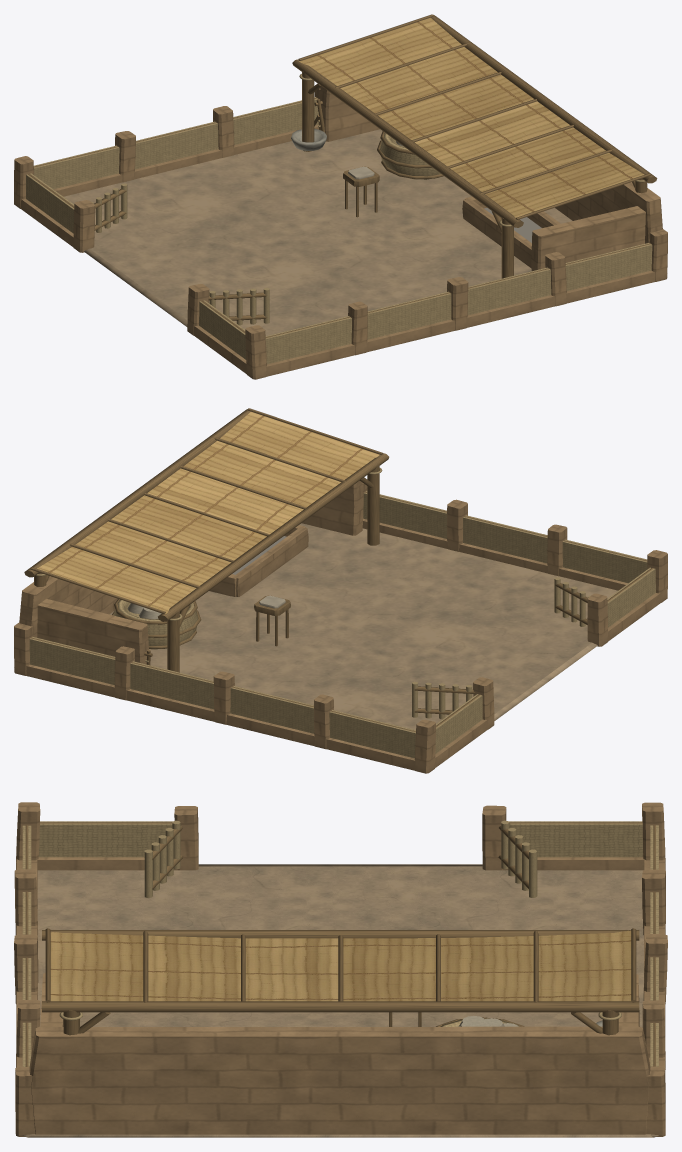
The model's file is sheepfold.glb.
3 renders of one model, top to bottom at view 1: azimuth 30°, elevation 25°; view 2: azimuth 150°, elevation 25°; view 3: azimuth 270°, elevation 25°, orthographic. The views are drawn at different scales.
Parts seen in each view (by area): view 1: original-sheepfold-alluvial-earth, original-sheepfold-laid-reed-thatch, original-sheepfold-game-raw-brick-facing, original-sheepfold-reed-mat, original-sheepfold-worn-timber; view 2: original-sheepfold-alluvial-earth, original-sheepfold-game-raw-brick-facing, original-sheepfold-laid-reed-thatch, original-sheepfold-reed-mat, original-sheepfold-worn-timber, original-sheepfold-woven-linen; view 3: original-sheepfold-game-raw-brick-facing, original-sheepfold-alluvial-earth, original-sheepfold-laid-reed-thatch, original-sheepfold-worn-timber, original-sheepfold-reed-mat.
Part boxes in pixels (bbox=[...]): original-sheepfold-alluvial-earth: bbox=[64, 129, 572, 335]; original-sheepfold-laid-reed-thatch: bbox=[299, 17, 644, 217]; original-sheepfold-game-raw-brick-facing: bbox=[14, 87, 667, 379]; original-sheepfold-reed-mat: bbox=[26, 74, 652, 364]; original-sheepfold-worn-timber: bbox=[28, 14, 657, 337]; original-sheepfold-alluvial-earth: bbox=[109, 523, 617, 730]; original-sheepfold-game-raw-brick-facing: bbox=[14, 480, 667, 773]; original-sheepfold-laid-reed-thatch: bbox=[37, 411, 380, 613]; original-sheepfold-reed-mat: bbox=[29, 468, 655, 758]; original-sheepfold-worn-timber: bbox=[24, 408, 653, 732]; original-sheepfold-woven-linen: bbox=[127, 595, 285, 619]; original-sheepfold-game-raw-brick-facing: bbox=[14, 802, 667, 1136]; original-sheepfold-alluvial-earth: bbox=[22, 864, 658, 1137]; original-sheepfold-laid-reed-thatch: bbox=[48, 930, 631, 1002]; original-sheepfold-worn-timber: bbox=[25, 822, 655, 1066]; original-sheepfold-reed-mat: bbox=[22, 820, 658, 1066].
Size of the model in its own units: 10.72 by 2.4 by 10.75.
Materials: 8 (7 with a texture image).
